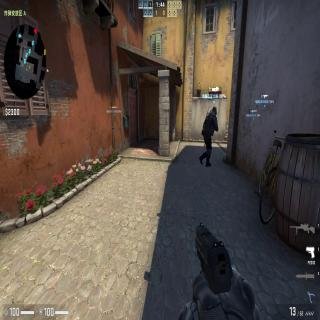CT-Body: (198, 107, 219, 168)
CT-Head: (212, 107, 218, 116)
